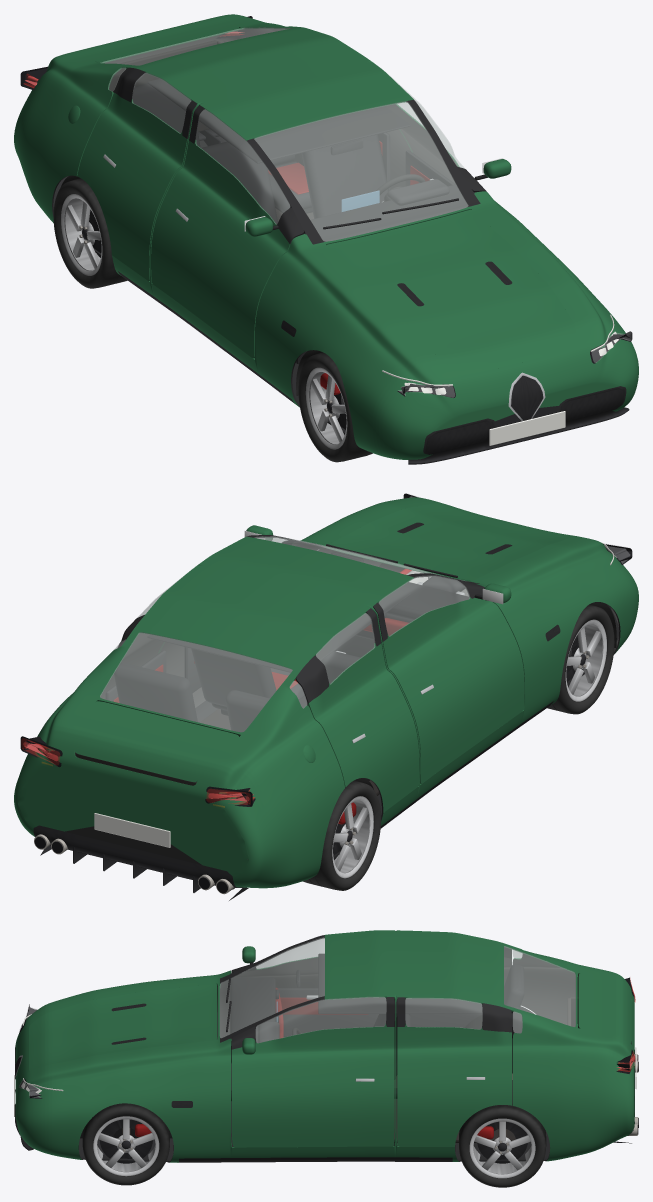
Rendered from giulia.glb.
The picture shows the model from 3 angles, top to bottom: view 1: azimuth 30°, elevation 25°; view 2: azimuth 150°, elevation 25°; view 3: azimuth 270°, elevation 25°; orthographic projection. The views are drawn at different scales.
Parts seen in each view (by area): view 1: Body, Hood, Windshield, Door_FR, Door_RR, Headliner, Seat_FL_Back, Door_FR_Glass, Dash_Top, Wheel_RR_Tire, Tailgate, Wheel_FR_Tire (+20 smaller); view 2: Body, Door_FR, Door_RR, RearScreen, Hood, Tailgate, Seat_RL_Back, Diffuser, Door_FR_Glass, Seat_FL_Back, Wheel_RR_Tire, Door_RR_Glass (+13 smaller); view 3: Body, Door_FL, Door_RL, Hood, Windshield, RearScreen, Door_FL_Glass, Tailgate, Wheel_RL_Tire, Wheel_FL_Tire, Headliner, Dash_Top (+14 smaller).
Boxes of the visible parts, x1,y1,x2,y2 form: Body: (14, 14, 638, 459); Hood: (326, 209, 577, 375); Windshield: (254, 101, 468, 241); Door_FR: (151, 105, 303, 358); Door_RR: (77, 67, 196, 281); Headliner: (147, 79, 410, 163); Seat_FL_Back: (301, 134, 388, 218); Door_FR_Glass: (195, 109, 290, 224); Dash_Top: (302, 184, 476, 241); Wheel_RR_Tire: (53, 178, 127, 288); Tailgate: (78, 18, 239, 62); Wheel_FR_Tire: (298, 352, 372, 462); Body: (14, 497, 638, 888); Door_FR: (373, 579, 524, 783); Door_RR: (296, 608, 419, 812); RearScreen: (100, 632, 292, 731); Hood: (329, 503, 574, 581); Tailgate: (74, 701, 238, 782); Seat_RL_Back: (114, 663, 197, 721); Diffuser: (33, 825, 248, 900); Door_FR_Glass: (379, 575, 469, 636); Seat_FL_Back: (191, 649, 276, 706); Wheel_RR_Tire: (303, 780, 381, 890); Door_RR_Glass: (316, 613, 374, 684); Body: (15, 930, 634, 1162); Door_FL: (231, 997, 394, 1147); Door_RL: (397, 997, 511, 1146); Hood: (29, 984, 217, 1070); Windshield: (220, 937, 324, 1037); RearScreen: (504, 946, 575, 1026); Door_FL_Glass: (256, 997, 386, 1042); Tailgate: (578, 973, 631, 1043); Wheel_RL_Tire: (459, 1103, 546, 1187); Wheel_FL_Tire: (82, 1103, 169, 1185); Headliner: (318, 953, 482, 1013); Dash_Top: (230, 977, 275, 1063).
Bounding box in the file's own units: 1.89 × 1.45 × 4.68.
